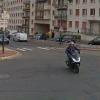Motorcycle: (52, 39, 97, 83)
